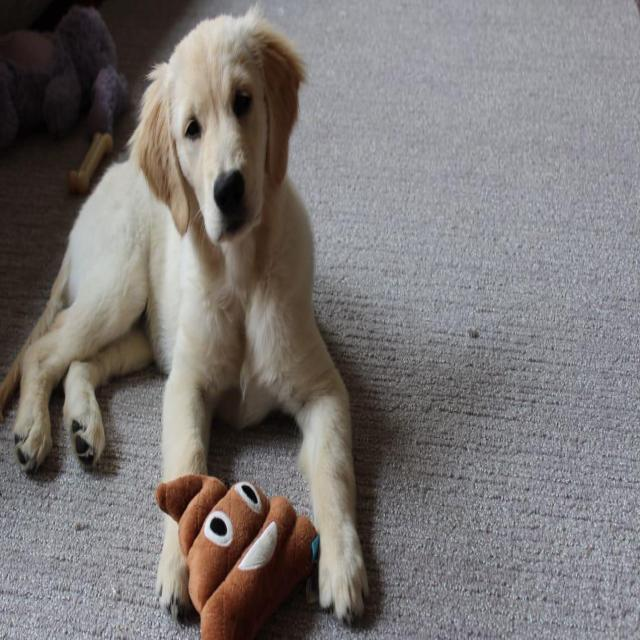Dog: (129, 7, 314, 255)
